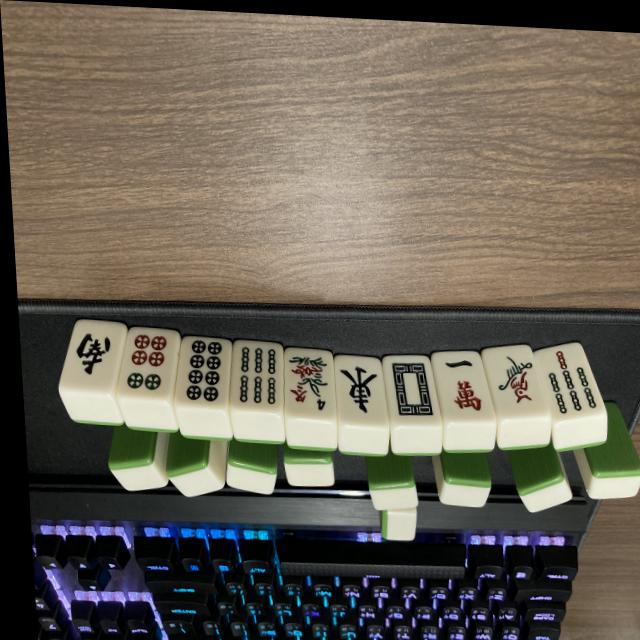bai: (384, 354, 441, 426)
east: (333, 355, 388, 427)
ff4: (281, 351, 337, 422)
m1: (435, 352, 497, 424)
s1: (485, 347, 548, 422)
s6: (229, 341, 288, 413)
s7: (537, 344, 603, 422)
south: (56, 319, 130, 395)
t6: (113, 328, 183, 403)
t8: (170, 335, 235, 409)
